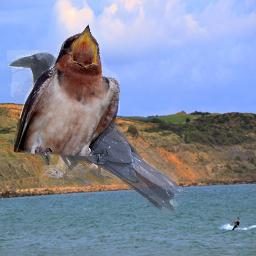Crow: (7, 50, 182, 215)
Swallow: (14, 24, 120, 165)
